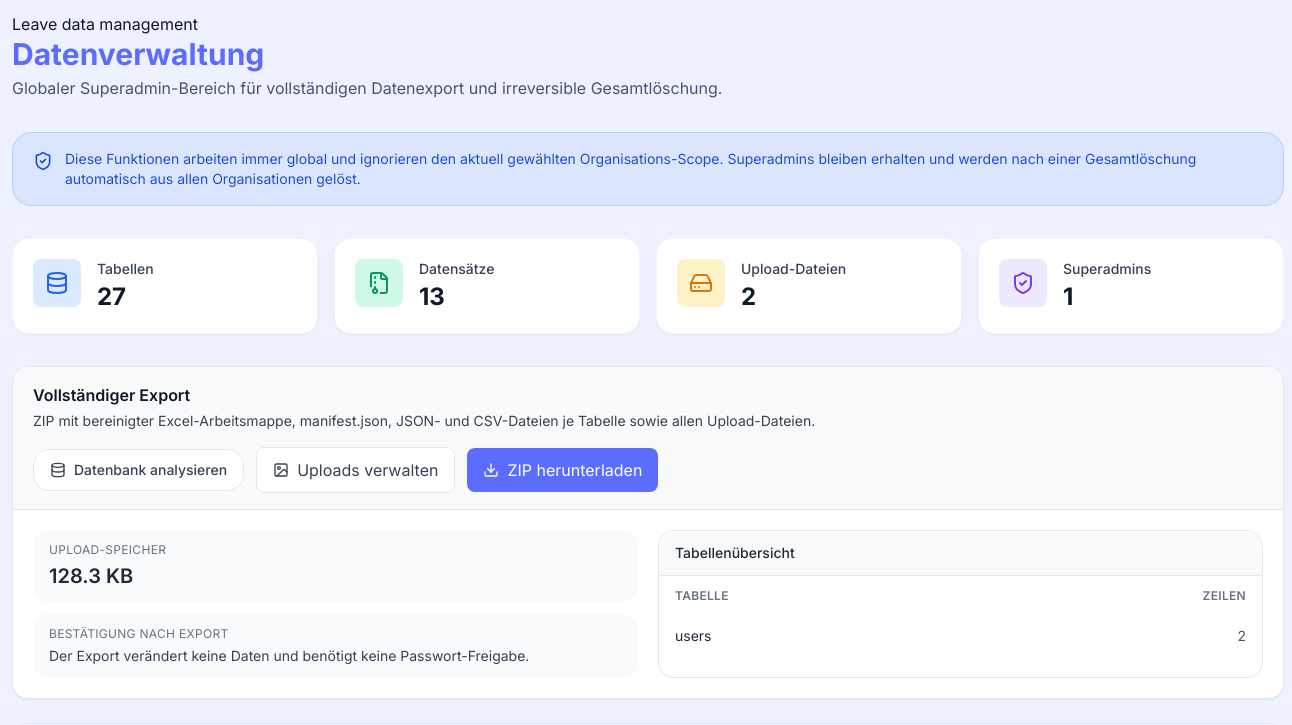
it: data management navigation before uploads have been loaded › leaves for dashboard without opening uploads (summary loaded: true)
Expected: the heading "Datenverwaltung" is shown, [12,36,264,72]
Click the link "Leave data management".
click(105, 24)  # box [12,14,198,34]
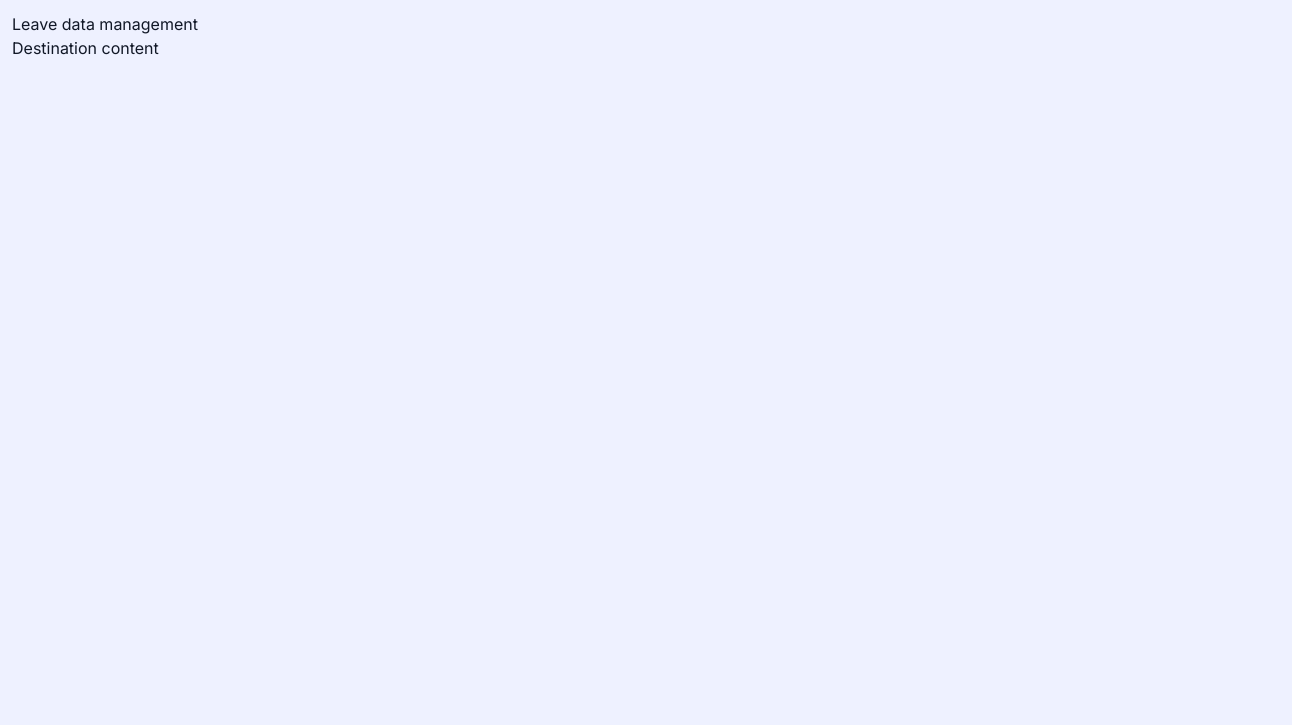
Expected: the heading "Destination content" is shown, [12,38,159,58]
Expected: the heading "Datenverwaltung" is gone
